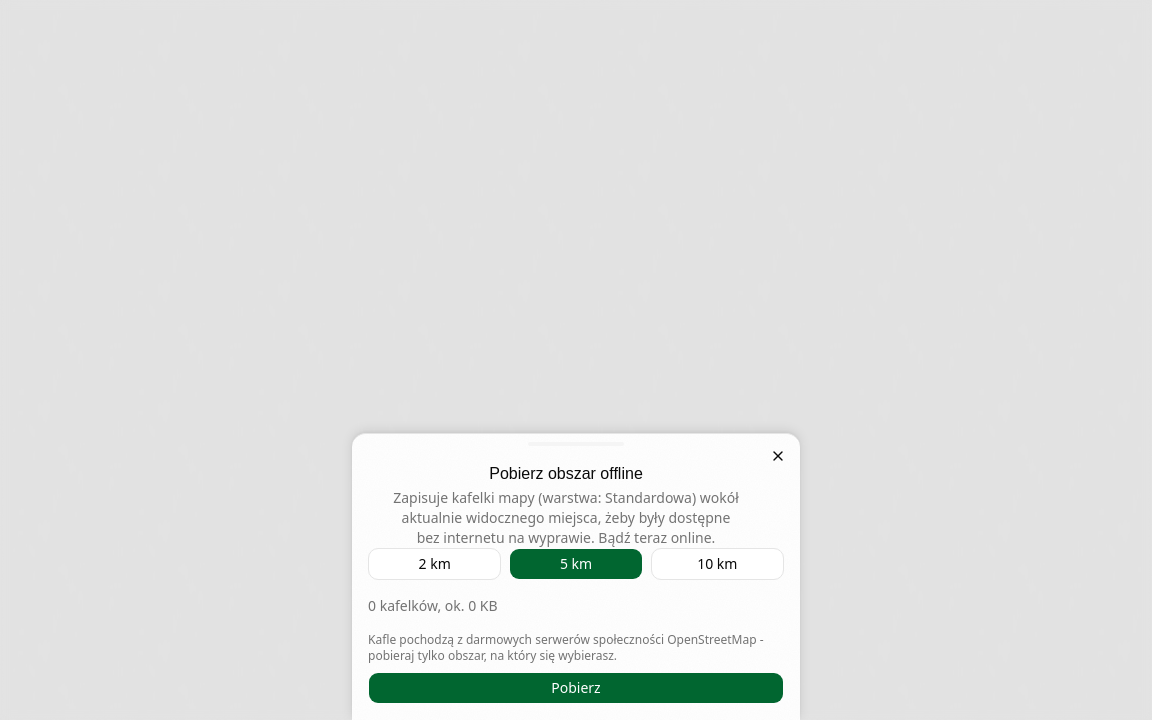
OfflineAreaDownload › pokazuje błąd, gdy nie udało się ustalić środka mapy
What coordinates should you click on to do the following:
click the button "Pobierz"
I would click on:
 (576, 688)
Its box is [368,672,784,704].
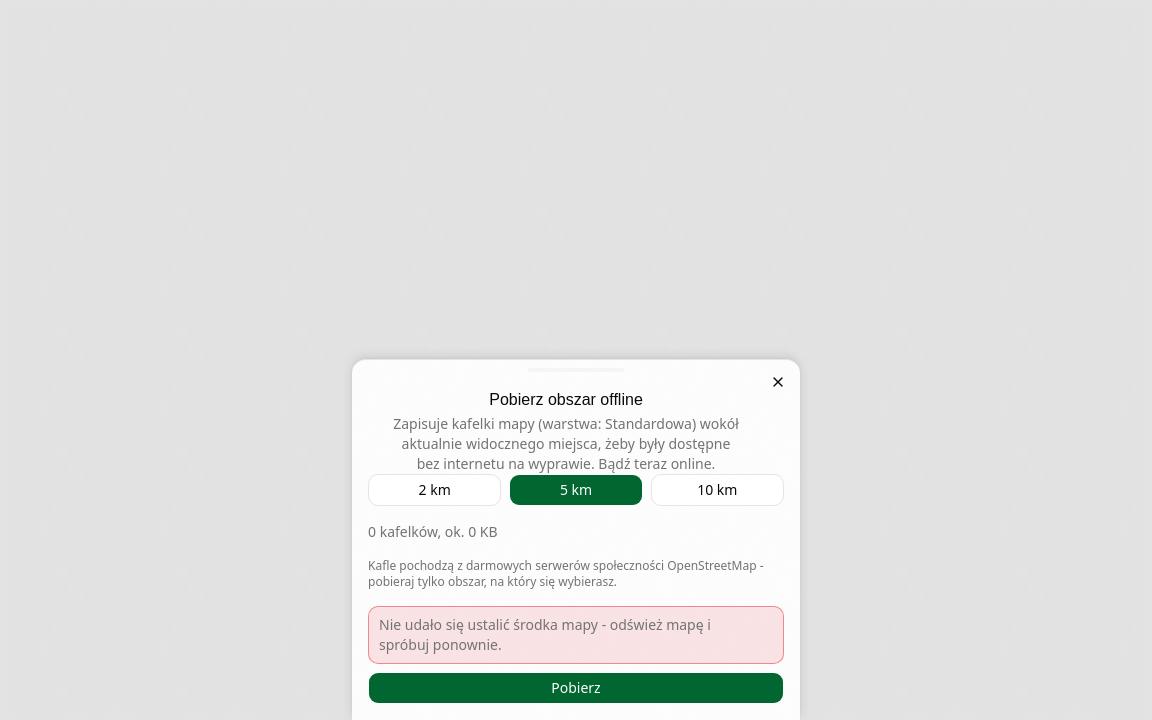
Expected: the text "Nie udało się ustalić środka mapy" is shown, [379,615,711,654]
